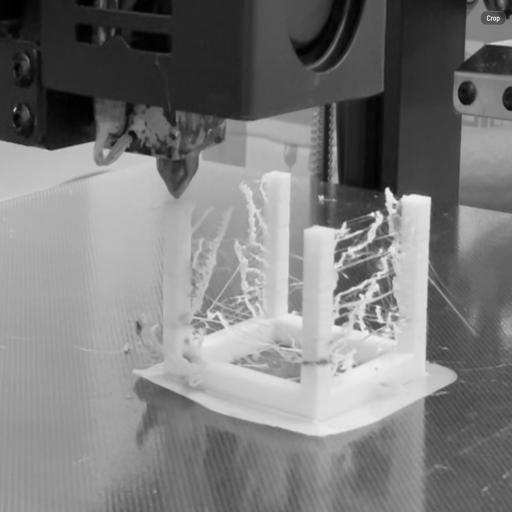spaghetti_and_stringing: (192, 193, 266, 325), (337, 222, 403, 368), (189, 329, 310, 385), (291, 254, 304, 322)
warp: (230, 409, 388, 452), (126, 370, 192, 426)
